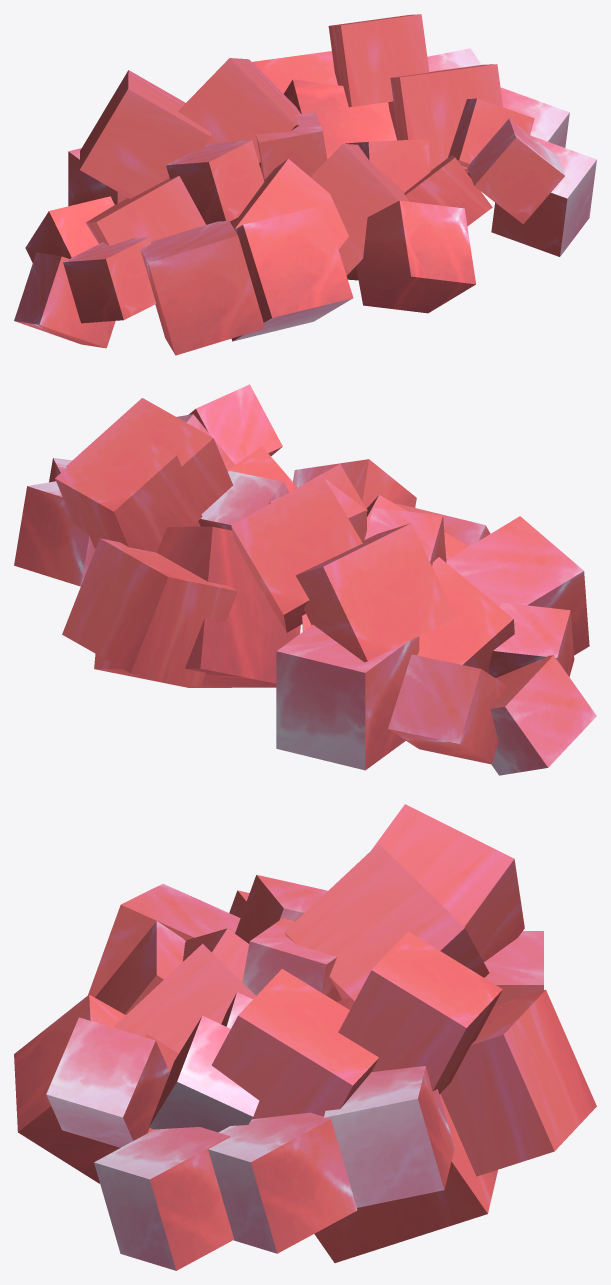
Rendered from yingshi_1.fbx.
The picture shows the model from 3 angles, top to bottom: view 1: azimuth 30°, elevation 25°; view 2: azimuth 150°, elevation 25°; view 3: azimuth 270°, elevation 25°; orthographic projection. The views are drawn at different scales.
Visible parts, largest first — view 1: polySurface63; view 2: polySurface63; view 3: polySurface63.
Part boxes in pixels (x1,y1,x2,y2): polySurface63: (14,14,596,355); polySurface63: (14,384,596,775); polySurface63: (14,804,596,1270).
Size of the model in its own units: 15.37 by 6.93 by 11.06.
